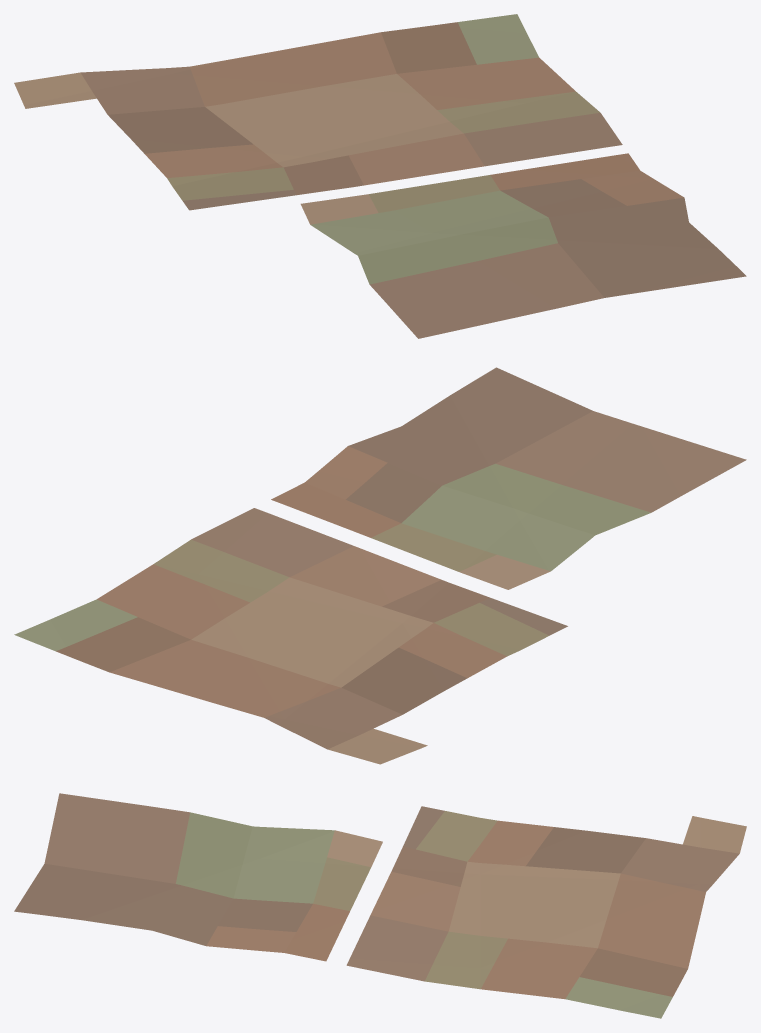
Rendered from farm_-10_-4_soil.glb.
3 renders of one model, top to bottom at view 1: azimuth 30°, elevation 25°; view 2: azimuth 150°, elevation 25°; view 3: azimuth 270°, elevation 25°, orthographic. The views are drawn at different scales.
Visible parts, largest first — view 1: geometry_0; view 2: geometry_0; view 3: geometry_0.
Boxes of the visible parts, left/top/right/bottom form: geometry_0: left=14, top=14, right=746, bottom=338; geometry_0: left=14, top=367, right=746, bottom=764; geometry_0: left=14, top=793, right=746, bottom=1018.
Bounding box in the file's own units: 169 × 18.05 × 266.
